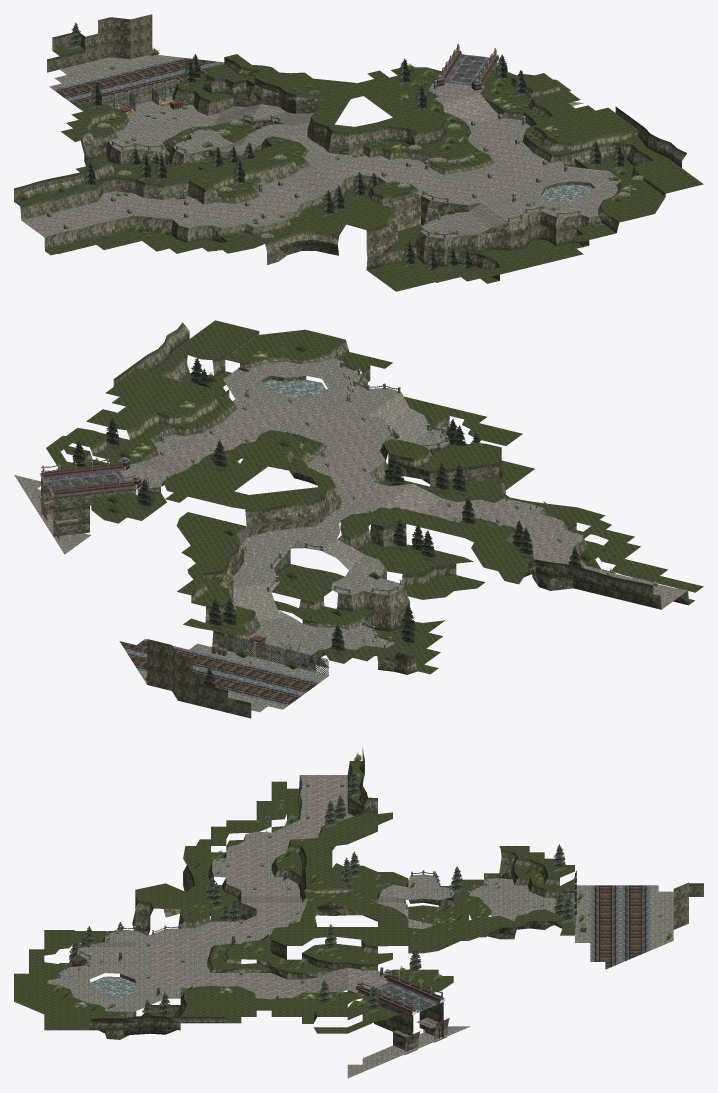
The model's file is West2.obj.
3 renders of one model, top to bottom at view 1: azimuth 30°, elevation 25°; view 2: azimuth 150°, elevation 25°; view 3: azimuth 270°, elevation 25°, orthographic. The views are drawn at different scales.
Parts seen in each view (by area): view 1: Object.36, Object.237, Object.190, Object.177, Object.175, Object.183, Object.222, Object.158, Object.94, Object.179, Object.114, Object.156 (+103 smaller); view 2: Object.190, Object.177, Object.95, Object.108, Object.36, Object.158, Object.164, Object.113, Object.179, Object.147, Object.163, Object.156 (+72 smaller); view 3: Object.94, Object.95, Object.93, Object.177, Object.179, Object.114, Object.156, Object.158, Object.164, Object.166, Object.150, Object.190 (+48 smaller).
Boxes of the visible parts, left/top/right/bottom form: Object.36: left=85, top=14, right=152, bottom=56; Object.237: left=20, top=190, right=106, bottom=250; Object.190: left=315, top=184, right=402, bottom=242; Object.177: left=524, top=94, right=602, bottom=136; Object.175: left=492, top=234, right=583, bottom=269; Object.183: left=352, top=218, right=434, bottom=291; Object.222: left=72, top=179, right=152, bottom=237; Object.158: left=618, top=174, right=683, bottom=216; Object.94: left=104, top=64, right=177, bottom=97; Object.179: left=481, top=73, right=565, bottom=112; Object.114: left=112, top=120, right=179, bottom=151; Object.156: left=336, top=70, right=405, bottom=104; Object.190: left=401, top=444, right=501, bottom=500; Object.177: left=95, top=388, right=207, bottom=437; Object.95: left=228, top=667, right=320, bottom=706; Object.108: left=238, top=531, right=304, bottom=581; Object.36: left=147, top=639, right=205, bottom=697; Object.158: left=214, top=327, right=319, bottom=358; Object.164: left=390, top=513, right=493, bottom=581; Object.113: left=240, top=582, right=316, bottom=642; Object.179: left=61, top=419, right=155, bottom=465; Object.147: left=272, top=573, right=335, bottom=622; Object.163: left=381, top=553, right=461, bottom=628; Object.156: left=165, top=474, right=248, bottom=507; Object.94: left=590, top=911, right=650, bottom=936; Object.95: left=590, top=885, right=650, bottom=910; Object.93: left=590, top=936, right=650, bottom=969; Object.177: left=211, top=985, right=286, bottom=1016; Object.179: left=287, top=992, right=362, bottom=1023; Object.114: left=469, top=878, right=529, bottom=910; Object.156: left=348, top=920, right=423, bottom=946; Object.158: left=14, top=995, right=88, bottom=1023; Object.164: left=287, top=844, right=362, bottom=892; Object.166: left=287, top=819, right=362, bottom=871; Object.150: left=212, top=934, right=286, bottom=969; Object.190: left=137, top=883, right=225, bottom=921.
Size of the model in its own units: 177 by 24 by 182.
